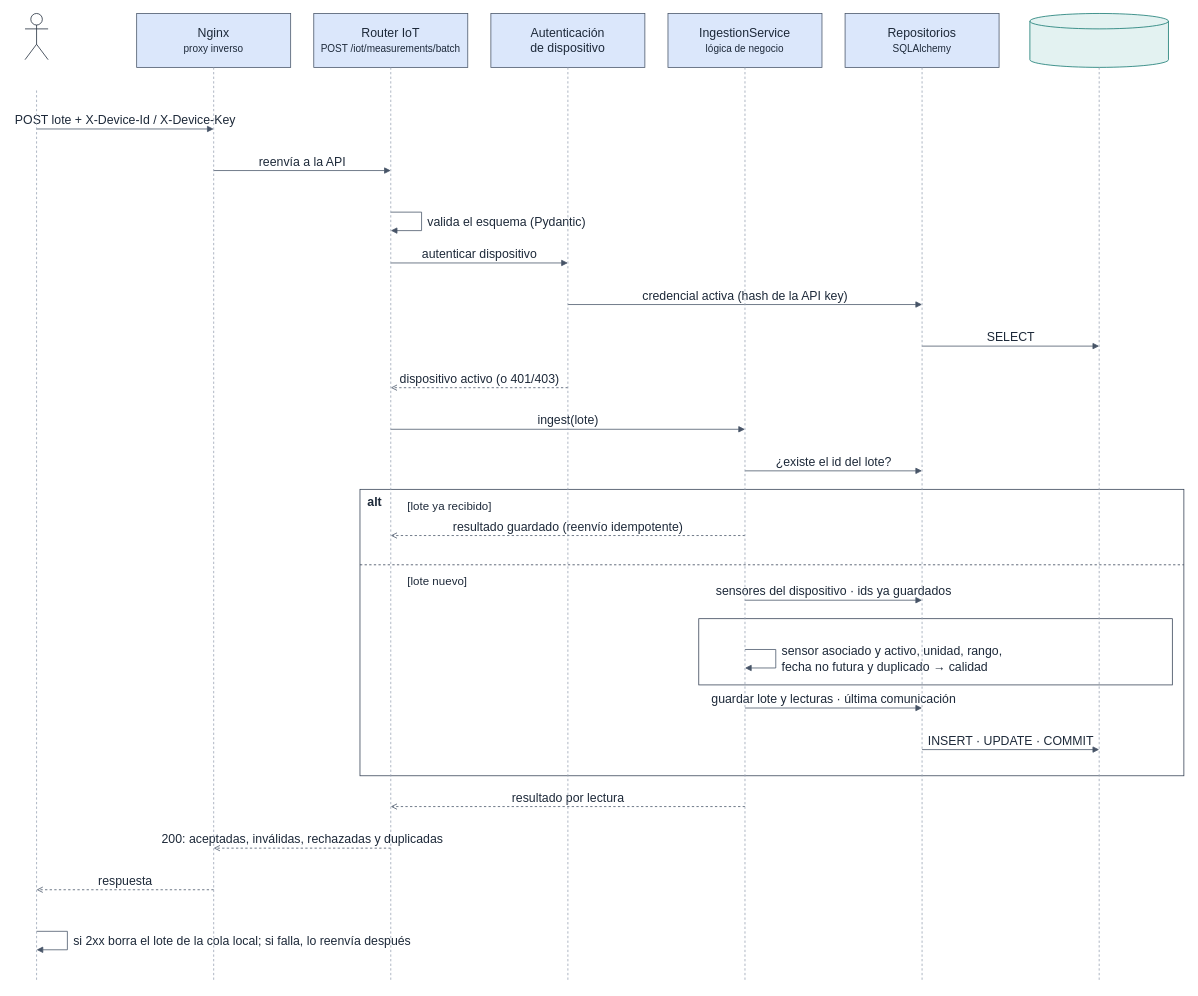
The diagram is 1198 pixels wide and 996 high, and some of its shapes have lost their labels. Here are the shapes that lost their labels. From the top down, the centre of each, then its label:
the point at 36,36: Estación ESP32
the point at 1098,40: PostgreSQL
the point at 935,651: loop [cada lectura]
